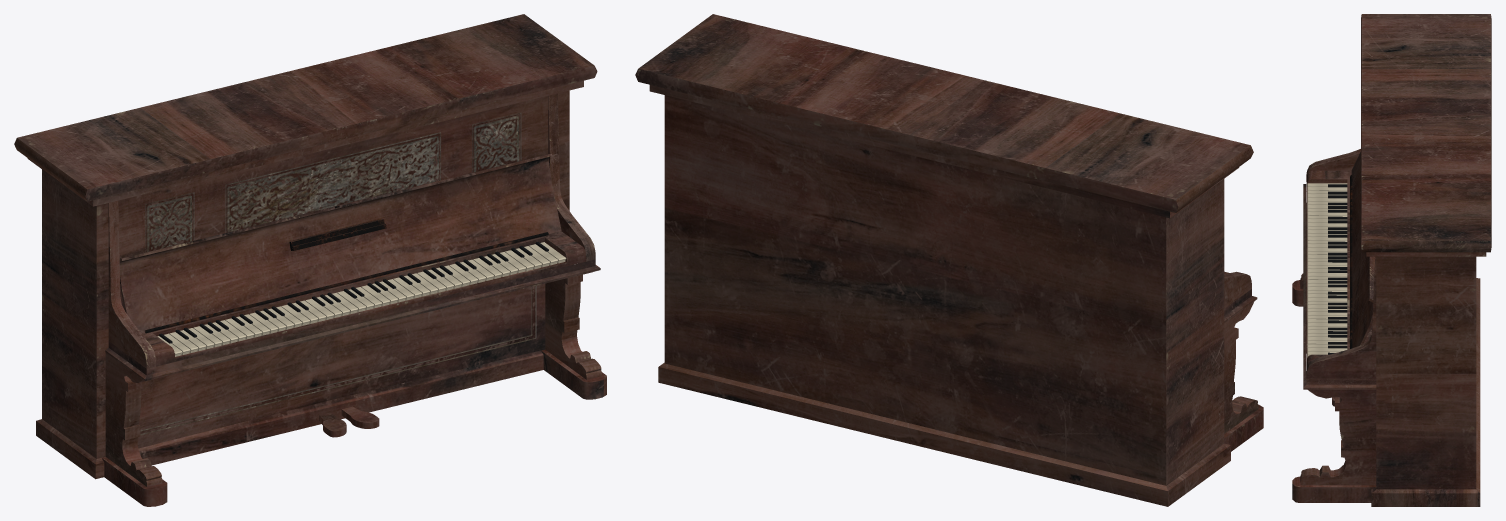
File: piano_f1aa4799.glb
3 renders of one model, left to right at view 1: azimuth 30°, elevation 25°; view 2: azimuth 150°, elevation 25°; view 3: azimuth 270°, elevation 25°, orthographic. The views are drawn at different scales.
Parts seen in each view (by area): view 1: PianoLP, PianoKlappeLP; view 2: PianoLP; view 3: PianoLP, PianoKlappeLP.
Part boxes in pixels (x1,y1,x2,y2): PianoLP: (14, 14, 606, 506); PianoKlappeLP: (119, 153, 561, 333); PianoLP: (635, 14, 1263, 506); PianoLP: (1292, 14, 1491, 506); PianoKlappeLP: (1351, 151, 1375, 348).
Size of the model in its own units: 217 by 120 by 79.57.
Materials: 1 (1 with a texture image).
